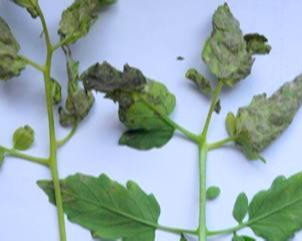Tomato mold leaf: (80, 57, 177, 152), (35, 171, 164, 241), (223, 63, 302, 163), (193, 0, 253, 86), (242, 164, 302, 241)
